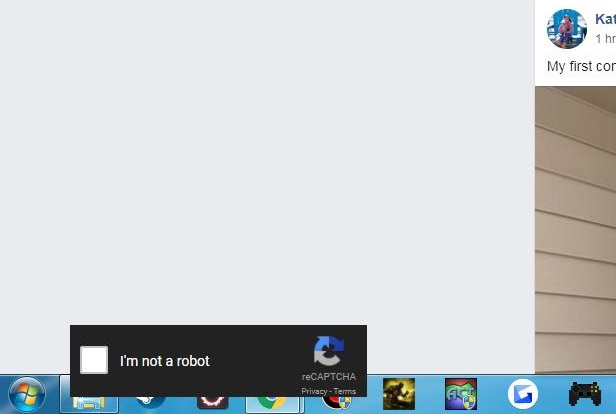captcha: (79, 345, 211, 375)
